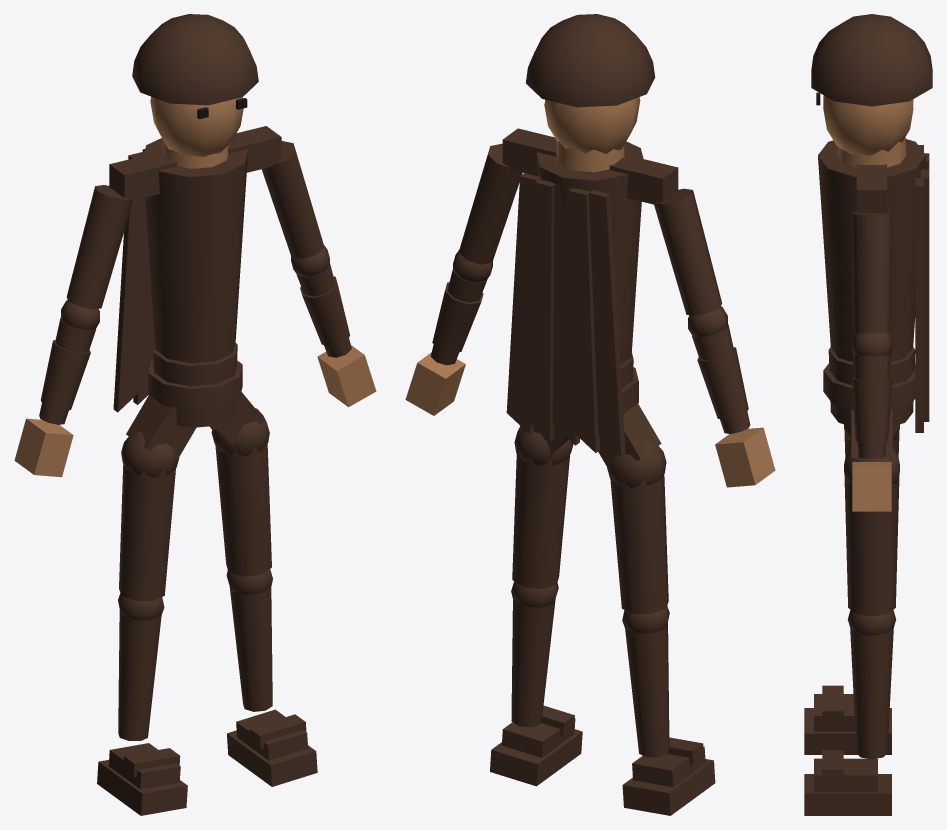
Rendered from iceman-body.glb.
3 views of the same model, side by side, from view 1: azimuth 30°, elevation 25°; view 2: azimuth 150°, elevation 25°; view 3: azimuth 270°, elevation 25° (orthographic). The views are drawn at different scales.
Visible parts, largest first — view 1: FittedTorso, FurCap, Thigh-1, Thigh1, CapeFold0, UpperArm-1, Shin-1, Shin1, Face, UpperArm1, ShoulderLink (×2), Waist (+21 smaller); view 2: FurCap, Thigh-1, Thigh1, CapeFold0, CapeFold1, FittedTorso, CapeFold3, UpperArm-1, CapeFold4, Shin-1, CapeFold2, Shin1 (+19 smaller); view 3: FittedTorso, FurCap, Thigh1, UpperArm1, Shin1, Face, Sandal1, Bracer1, CapeFold4, Hand1, Waist, Foot1 (+13 smaller).
Part boxes in pixels (x1,y1,x2,y2): FittedTorso: (143, 138, 248, 363); FurCap: (132, 14, 258, 105); Thigh-1: (119, 463, 176, 600); Thigh1: (215, 439, 271, 576); CapeFold0: (113, 151, 146, 412); UpperArm-1: (66, 185, 132, 309); Shin-1: (118, 609, 161, 740); Shin1: (229, 586, 272, 711); Face: (150, 96, 243, 157); UpperArm1: (262, 141, 324, 259); ShoulderLink (×2): (109, 126, 281, 200); Waist: (153, 343, 237, 427); FurCap: (526, 14, 655, 107); Thigh-1: (610, 474, 668, 613); Thigh1: (512, 449, 569, 588); CapeFold0: (589, 190, 625, 456); CapeFold1: (569, 188, 599, 452); FittedTorso: (536, 141, 643, 364); CapeFold3: (527, 179, 554, 441); UpperArm-1: (654, 188, 721, 315); CapeFold4: (506, 173, 541, 434); Shin-1: (625, 622, 669, 757); CapeFold2: (552, 184, 579, 445); Shin1: (511, 599, 555, 727); FittedTorso: (818, 139, 925, 362); FurCap: (811, 14, 932, 106); Thigh1: (844, 474, 899, 616); UpperArm1: (851, 211, 892, 333); Shin1: (850, 628, 893, 759); Face: (823, 95, 913, 155); Sandal1: (804, 774, 891, 815); Bracer1: (851, 377, 892, 442); CapeFold4: (915, 178, 923, 432); Hand1: (852, 462, 891, 511); Waist: (828, 347, 915, 426); Foot1: (814, 758, 877, 791).
Size of the model in its own units: 0.9158 by 1.93 by 0.2969.
